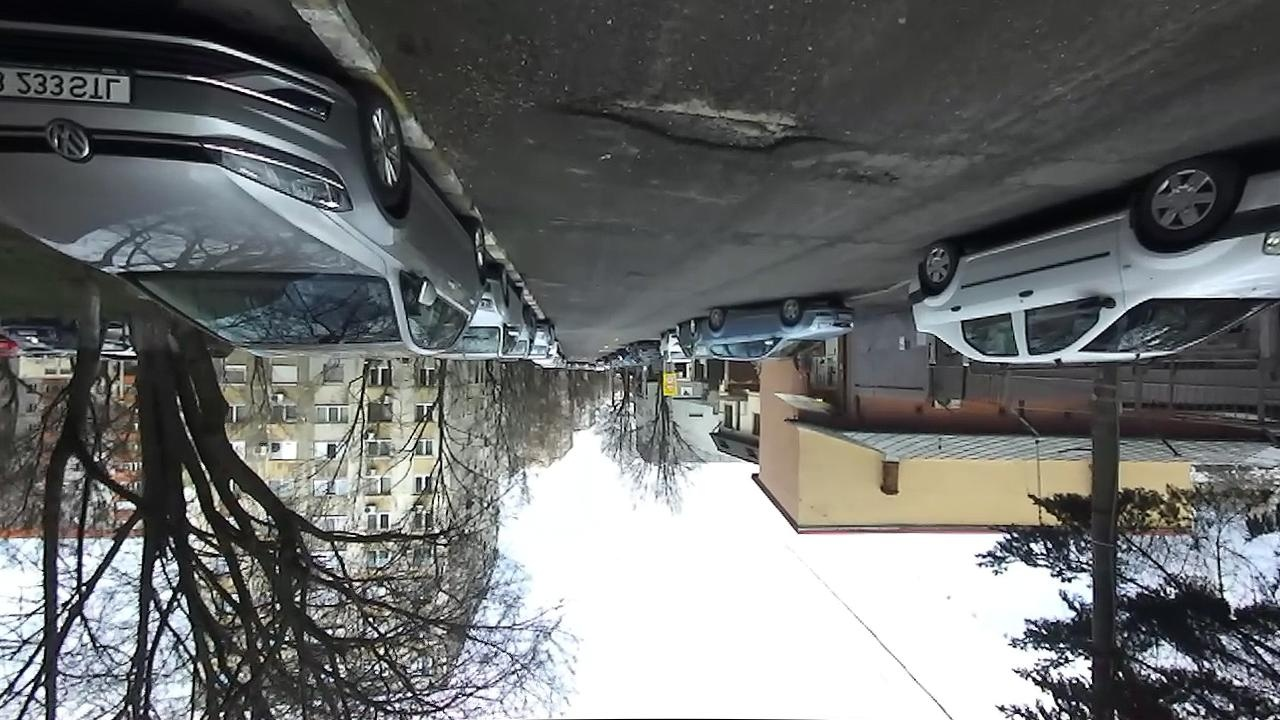pothole: (554, 78, 834, 155), (805, 160, 904, 192)
